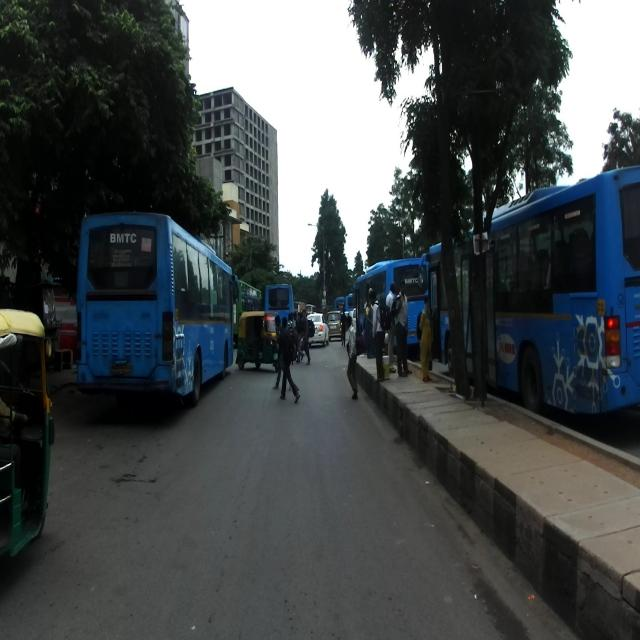autorickshaw: (0, 308, 54, 558)
bus: (418, 164, 638, 415), (73, 208, 239, 407)
